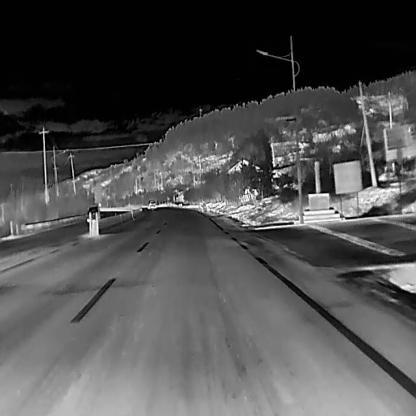car: (85, 204, 100, 224), (146, 199, 157, 211)
